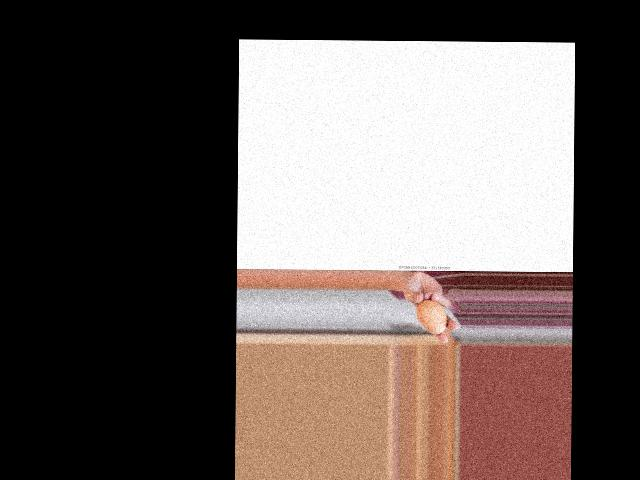egg: (417, 299, 447, 334)
